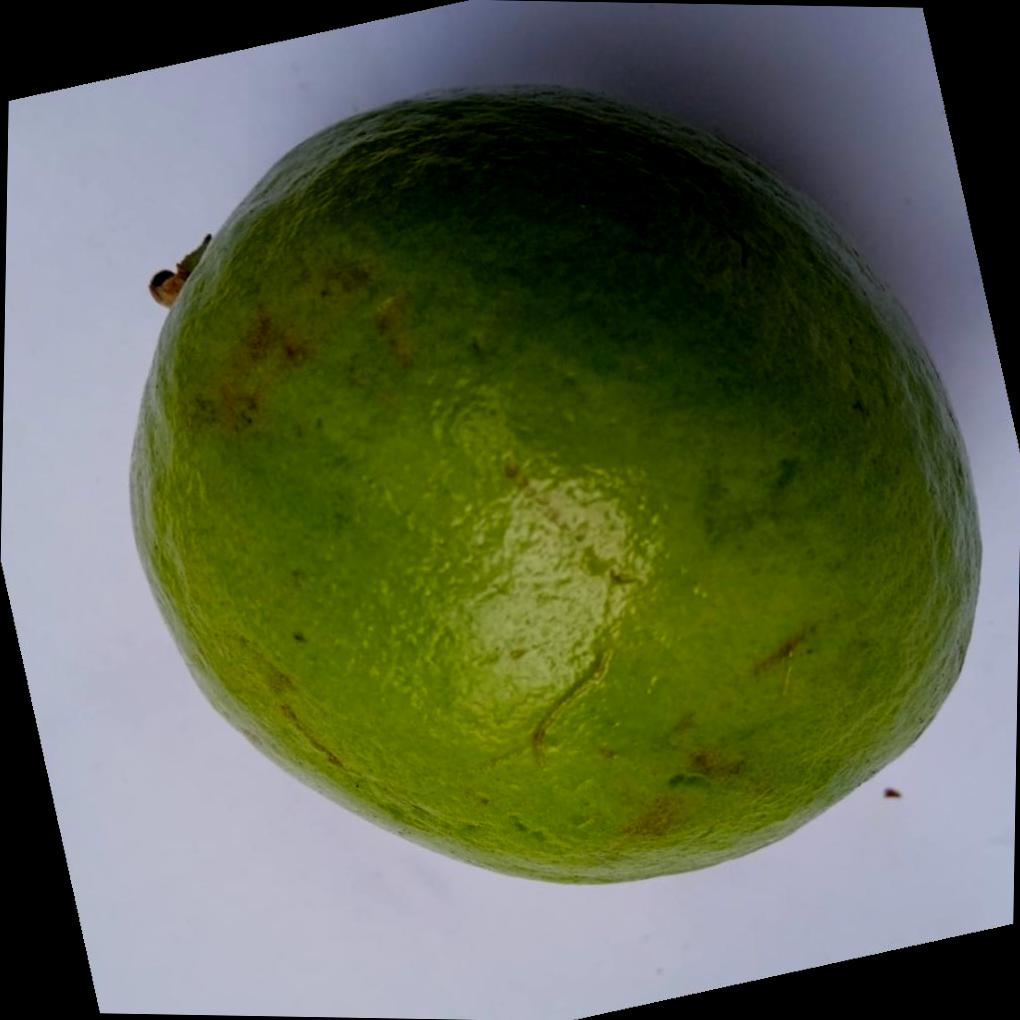FreshGuava: (124, 84, 979, 886)
